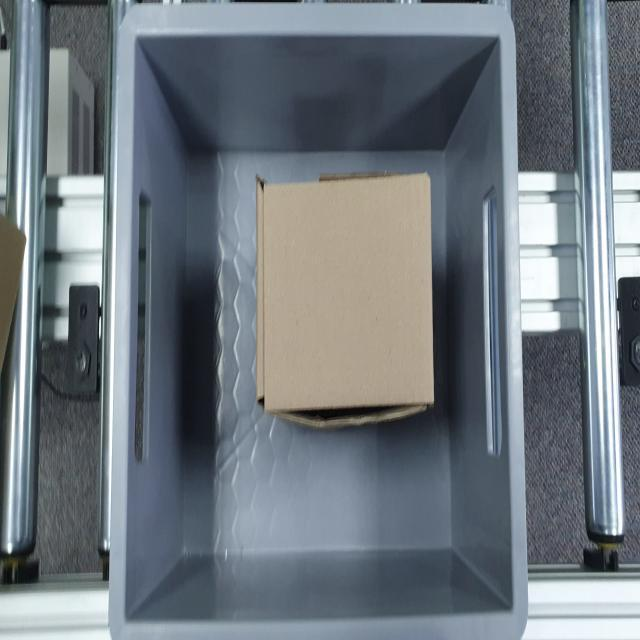box: (257, 175, 436, 432)
